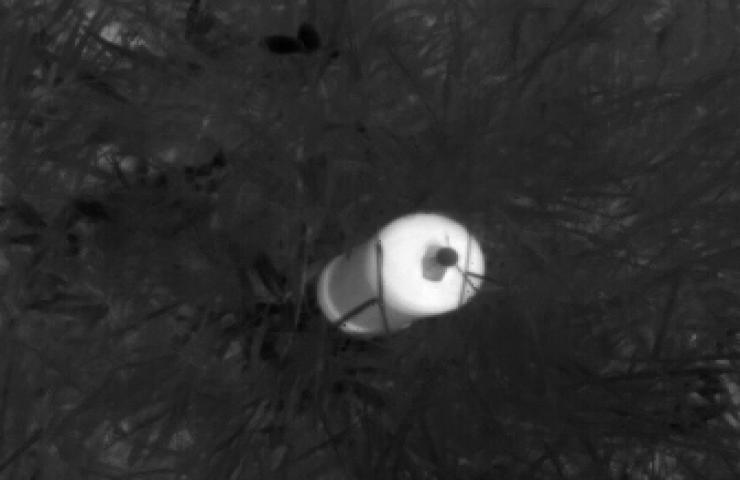landmines: (314, 206, 491, 344)
